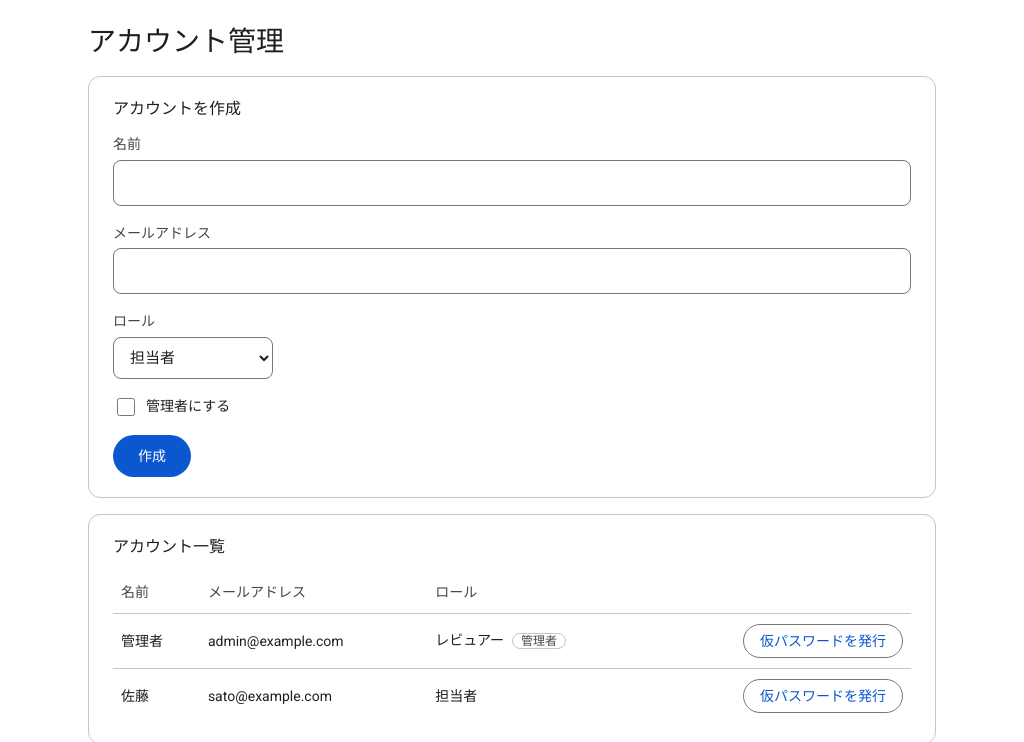
Test case: アカウント管理 › 仮パスワードの発行を断られたら、APIが返した理由を表示する
What coordinates should you click on to do the following:
click the button with aria-label "佐藤 の仮パスワードを発行"
I would click on:
 (823, 696)
Its box is [743, 679, 903, 713].
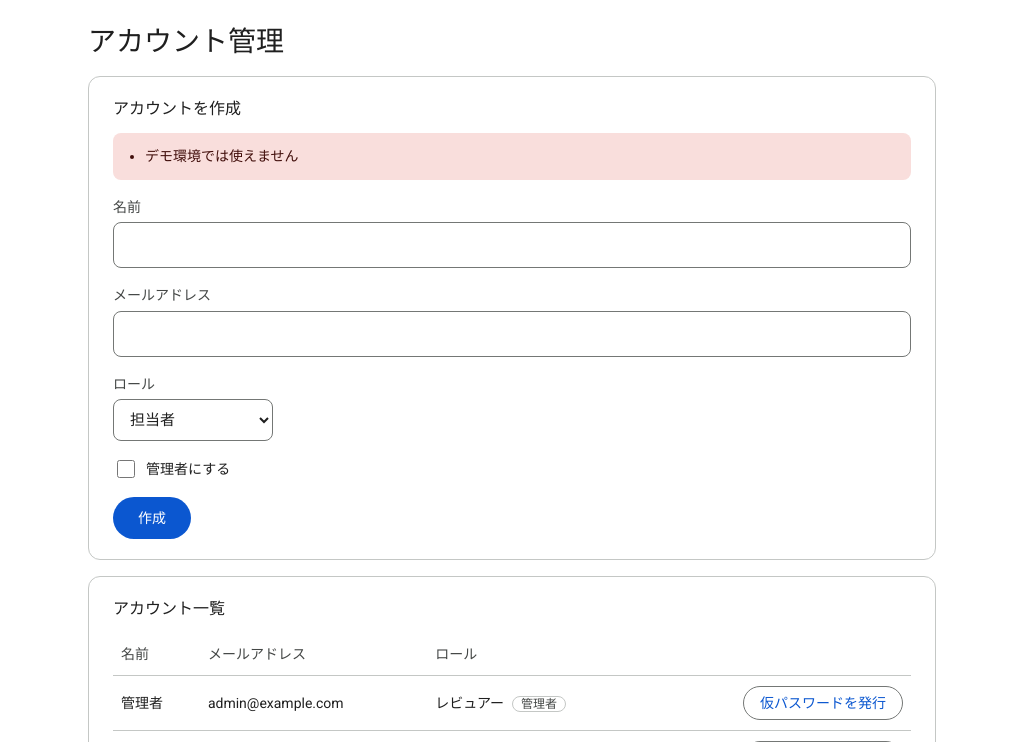
Now the message reads "デモ環境では使えません", box [145, 148, 299, 164]
